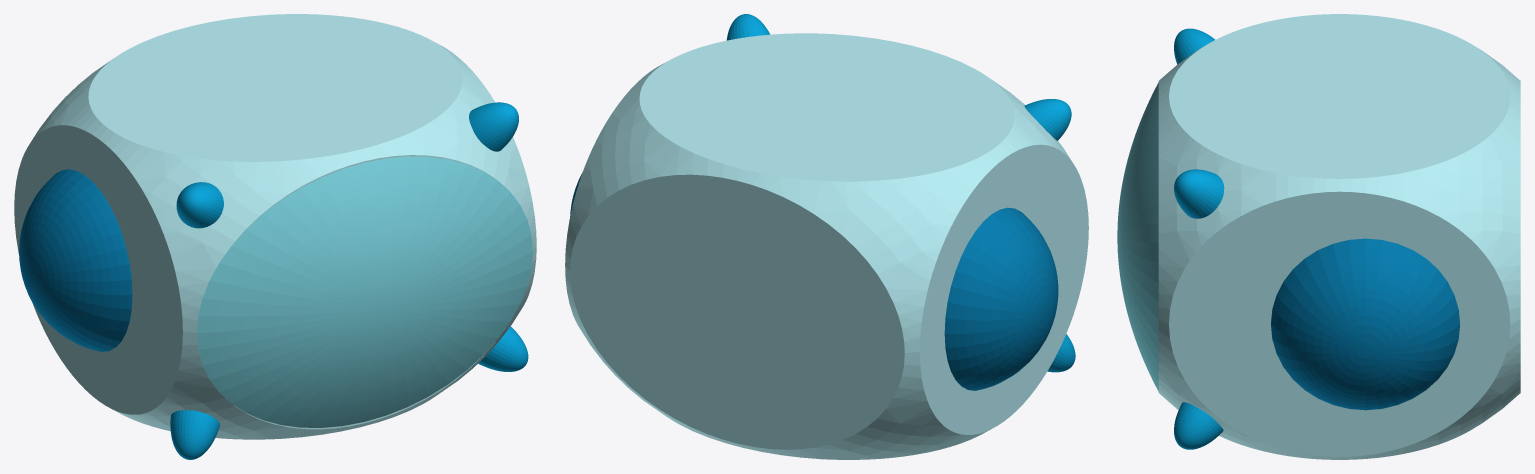
File: tinker.obj
3 renders of one model, left to right at view 1: azimuth 30°, elevation 25°; view 2: azimuth 150°, elevation 25°; view 3: azimuth 270°, elevation 25°, orthographic.
Visible parts, largest first — view 1: obj_4, obj_3, obj_1, obj_6, obj_7, obj_8, obj_5; view 2: obj_4, obj_1, obj_8, obj_7, obj_6; view 3: obj_4, obj_0, obj_3, obj_7, obj_5, obj_8.
Boxes of the visible parts, x1,y1,x2,y2 form: obj_4: (14,14,536,439); obj_3: (196,156,532,427); obj_1: (19,169,132,351); obj_6: (170,410,219,459); obj_7: (469,102,518,151); obj_8: (176,182,223,228); obj_5: (478,326,528,371); obj_4: (565,33,1088,459); obj_1: (944,207,1058,390); obj_8: (1024,99,1071,140); obj_7: (726,14,770,40); obj_6: (1047,334,1075,372); obj_4: (1158,14,1520,459); obj_0: (1271,238,1459,410); obj_3: (1117,82,1158,391); obj_7: (1174,169,1224,218); obj_5: (1174,402,1223,449); obj_8: (1174,28,1215,64).
Size of the model in its own units: 52 by 32 by 39.
